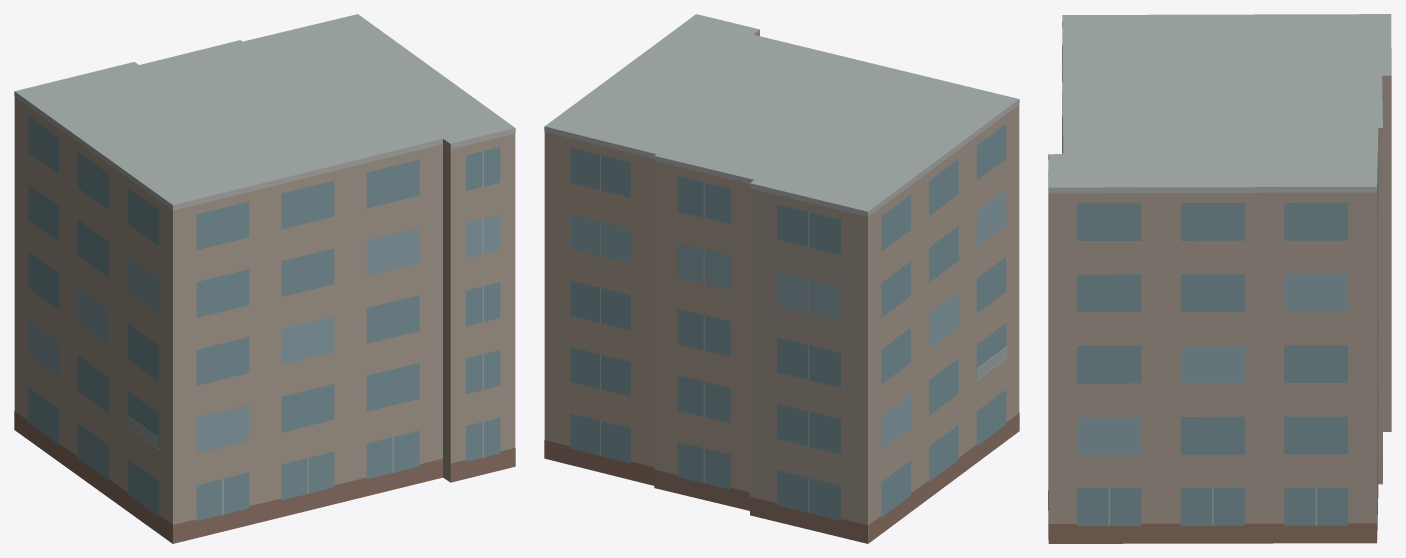
Rendered from survey-upis-32701904.glb.
3 views of the same model, side by side, from view 1: azimuth 30°, elevation 25°; view 2: azimuth 150°, elevation 25°; view 3: azimuth 270°, elevation 25° (orthographic). The views are drawn at different scales.
Parts seen in each view (by area): view 1: survey-upis-32701904.tmp; view 2: survey-upis-32701904.tmp; view 3: survey-upis-32701904.tmp.
Part boxes in pixels (x1=…): survey-upis-32701904.tmp: x1=14, y1=14, x2=515, y2=543; survey-upis-32701904.tmp: x1=544, y1=14, x2=1019, y2=543; survey-upis-32701904.tmp: x1=1048, y1=14, x2=1391, y2=543.
Bounding box in the file's own units: 15.94 × 15.25 × 13.33.
